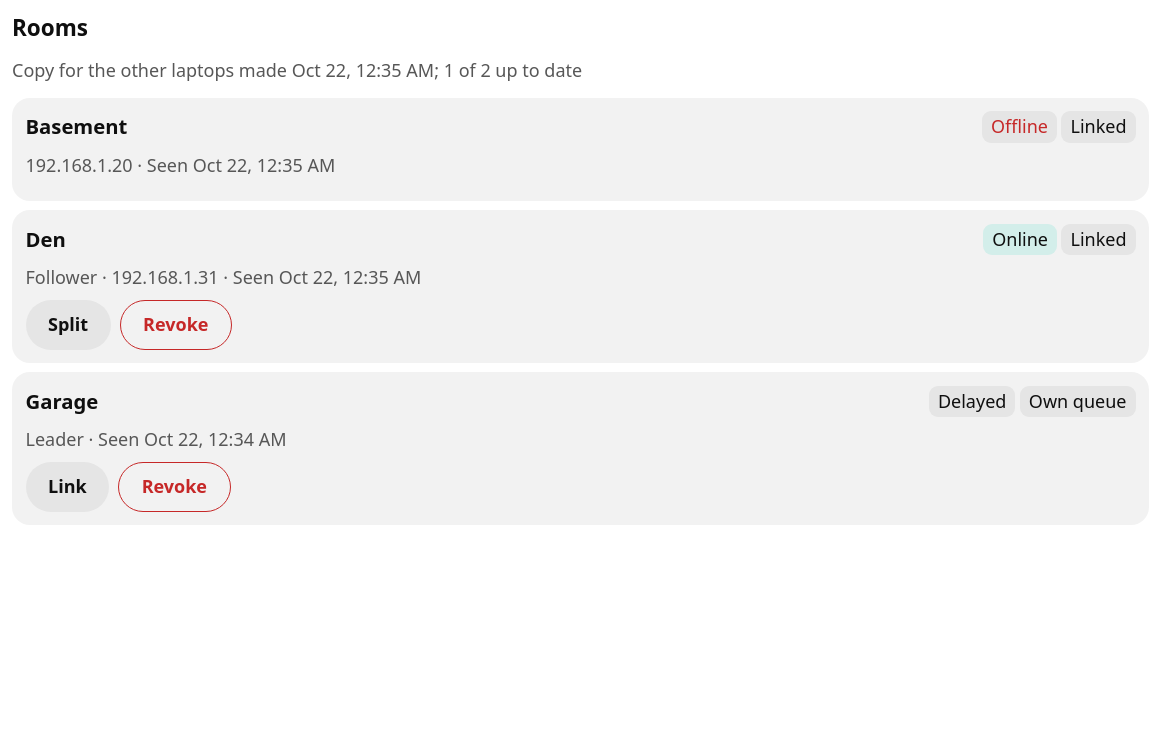
Test: Admin Rooms tab › Link lists the orphaned songs and re-adds them to the main queue
This screenshot has width=1164, height=732.
Expected: the number of list items with test id "room-row" is 3, [12,98,1149,201]; [12,210,1149,363]; [12,372,1149,525]
Click the button "Link": (67, 487) [26,462,109,512]
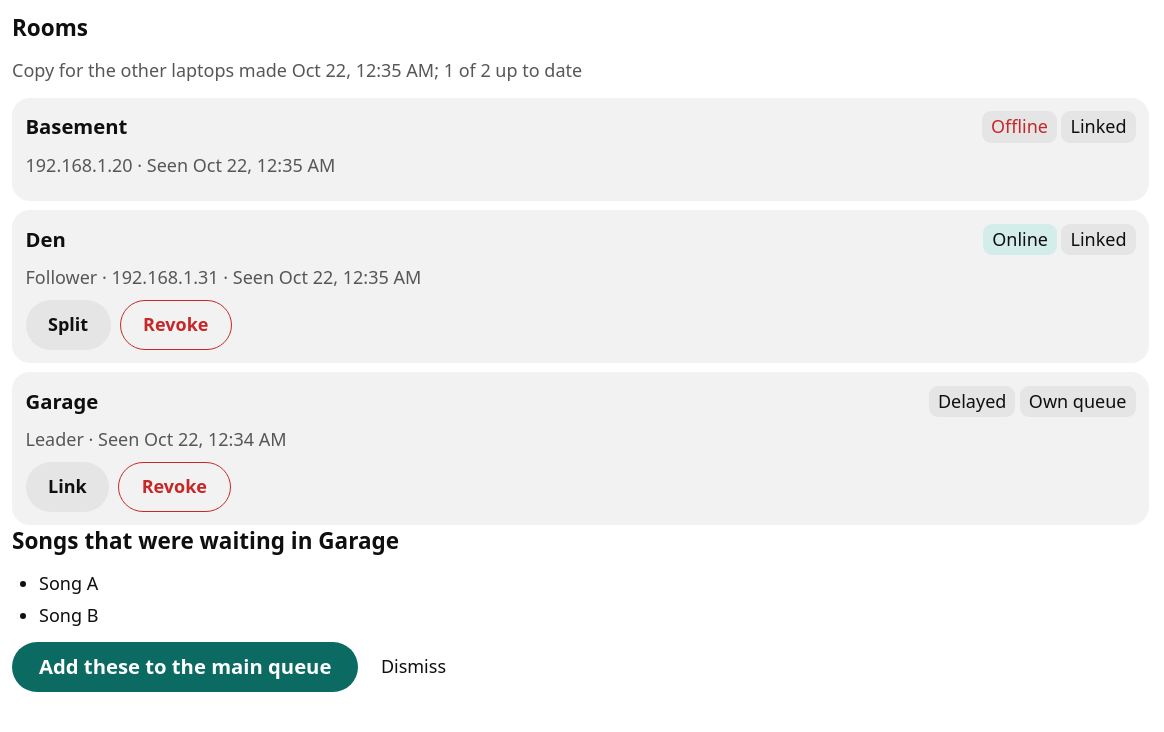
Now the list item "Song A" is shown, box [39,571,98,595]
Now the list item "Song B" is shown, box [39,602,98,626]
Click the button "Add these to the main queue": (185, 667) [12,642,358,692]
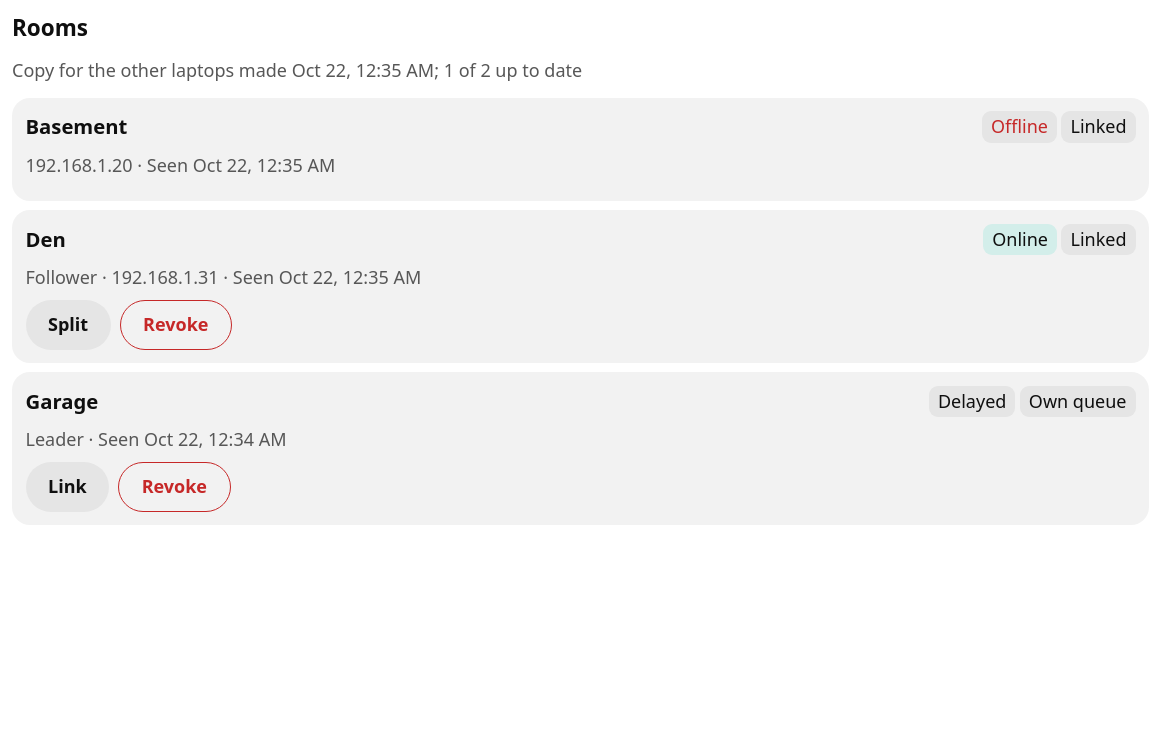
Now the element with test id "orphaned" is gone
